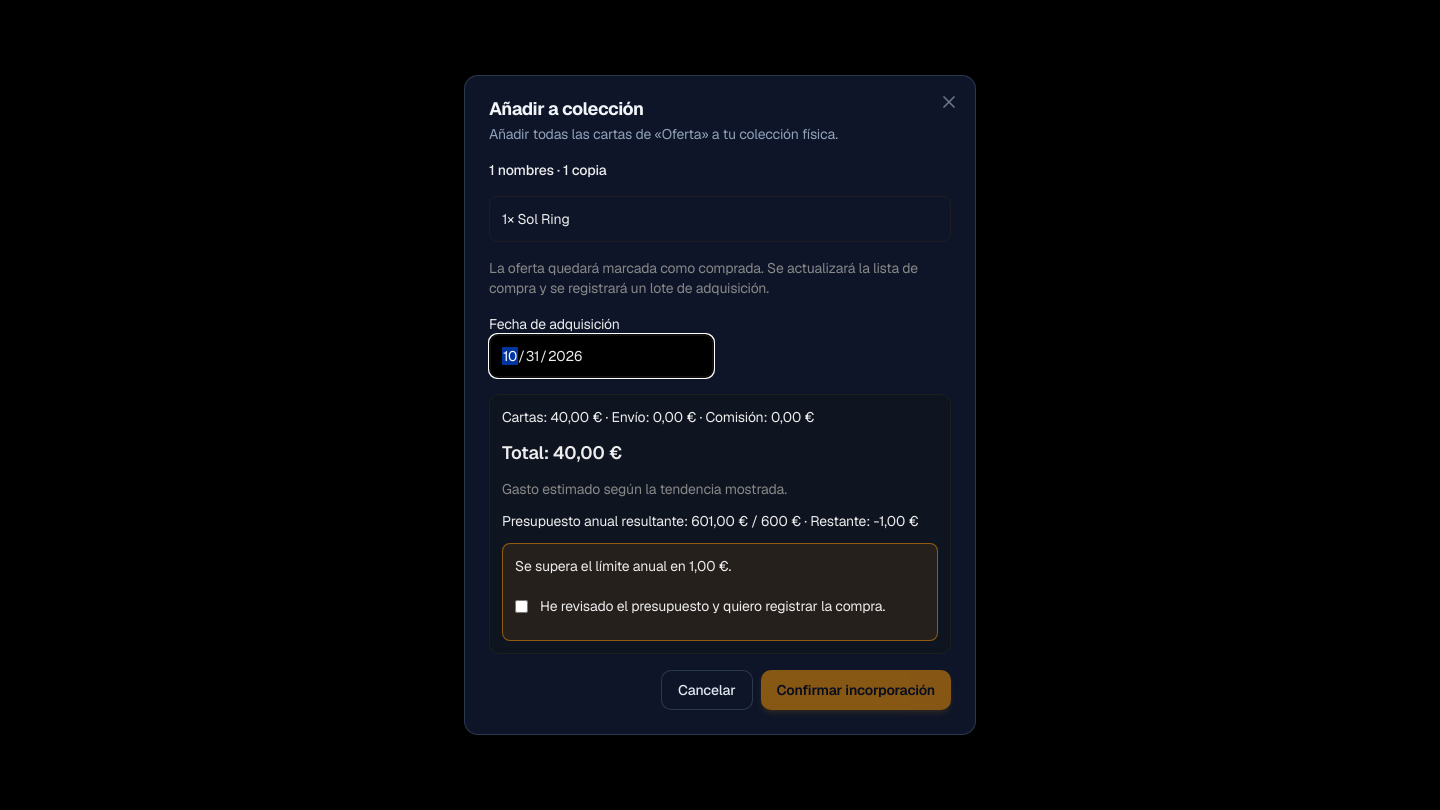
Test: requires explicit budget acknowledgement and keeps the review open on server errors
The width and height of the screenshot is (1440, 810).
Expected: the text "Se supera el límite anual en 1,00 €." is shown, [515,557,731,575]
Expected: the button "Confirmar incorporación" is disabled, [760,670,951,710]
Click the checkbox at (522, 606), box [515,600,528,612]
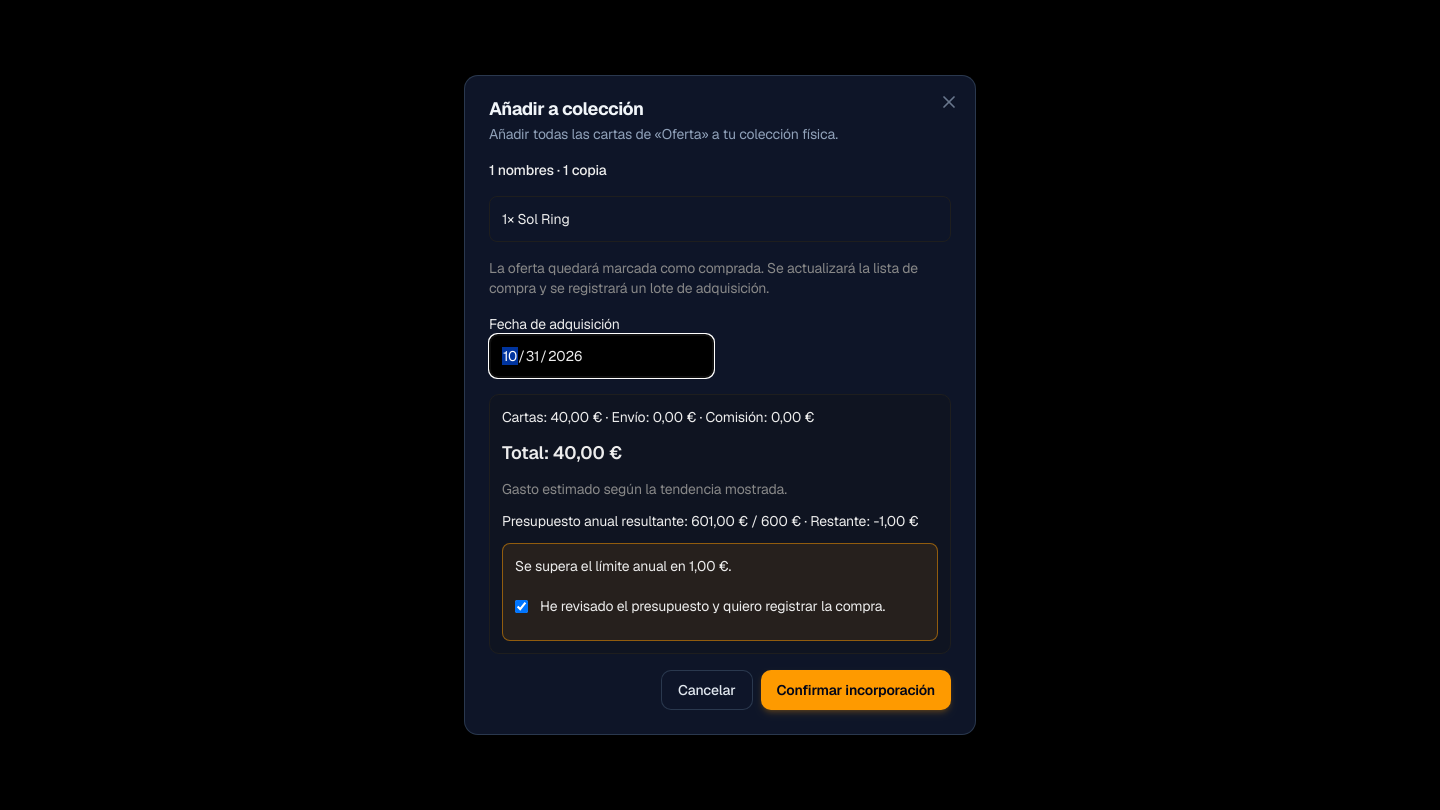
Click the button "Confirmar incorporación" at (856, 690), box [760,670,951,710]
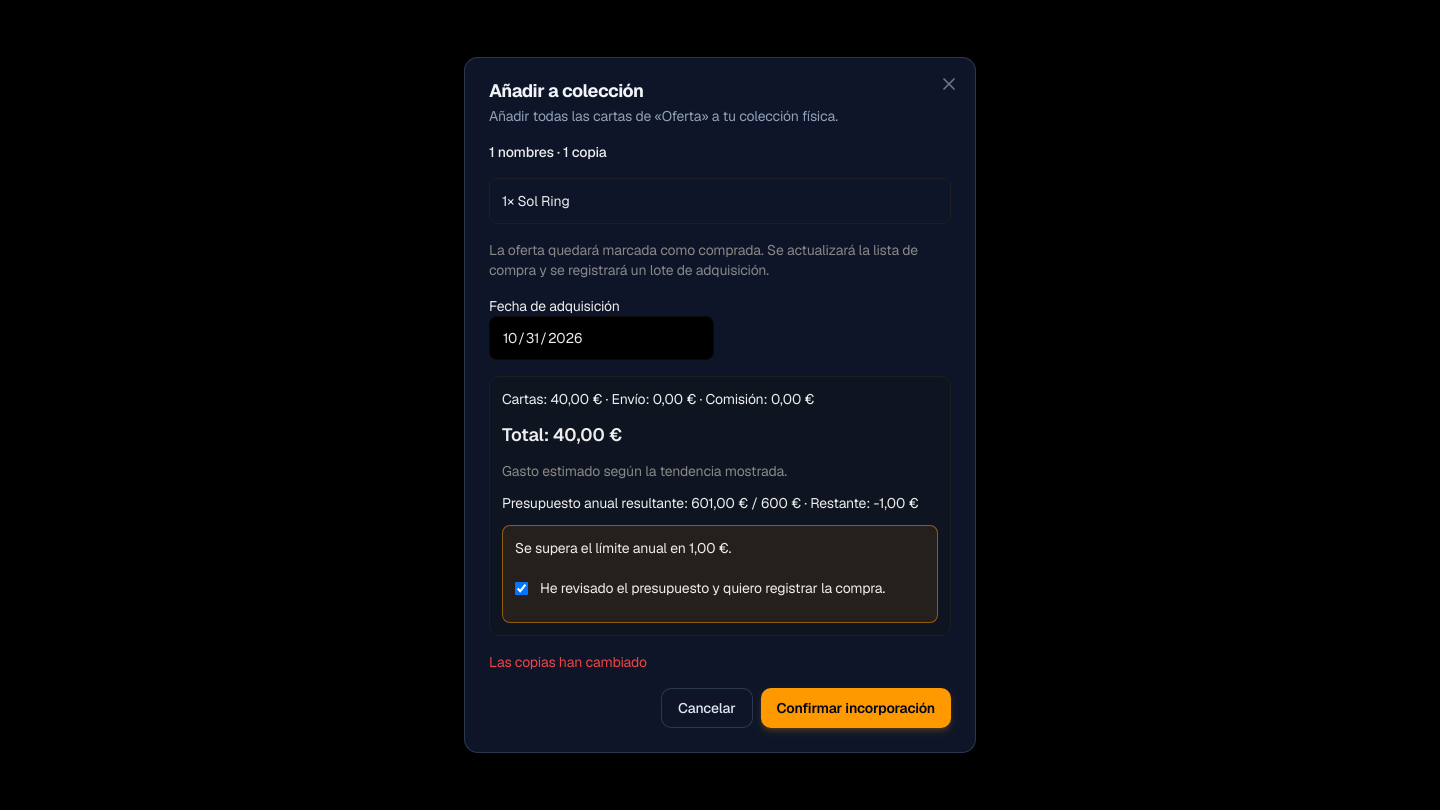
Expected: the message that starts with "Se supera el límite anual en 1,00 €." is shown, [502,525,938,623]
Expected: the text "Las copias han cambiado" is shown, [489,653,647,671]
